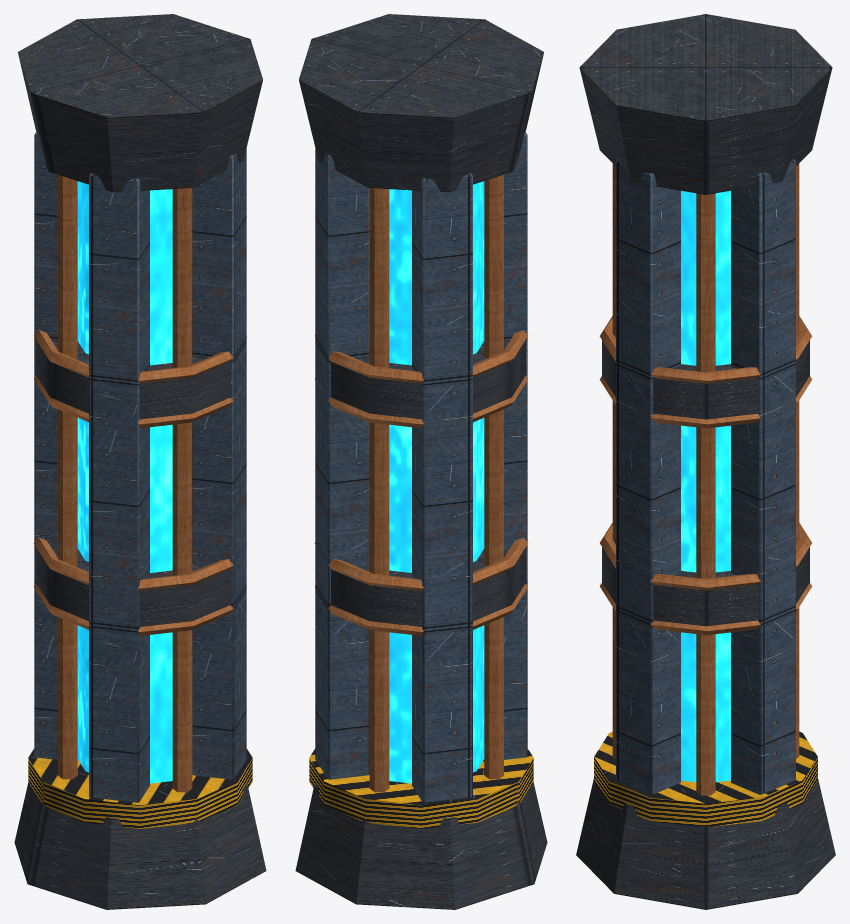
The model's file is coolant_pylon_short_01.glb.
3 views of the same model, side by side, from view 1: azimuth 30°, elevation 25°; view 2: azimuth 150°, elevation 25°; view 3: azimuth 270°, elevation 25° (orthographic).
Parts seen in each view (by area): view 1: torre_reactor; view 2: torre_reactor; view 3: torre_reactor.
Part boxes in pixels (x1,y1,x2,y2): torre_reactor: (14,14,266,909); torre_reactor: (295,14,547,909); torre_reactor: (576,14,835,909).
Bounding box in the file's own units: 1.2 × 4 × 1.2.
5 materials, 5 textured.
